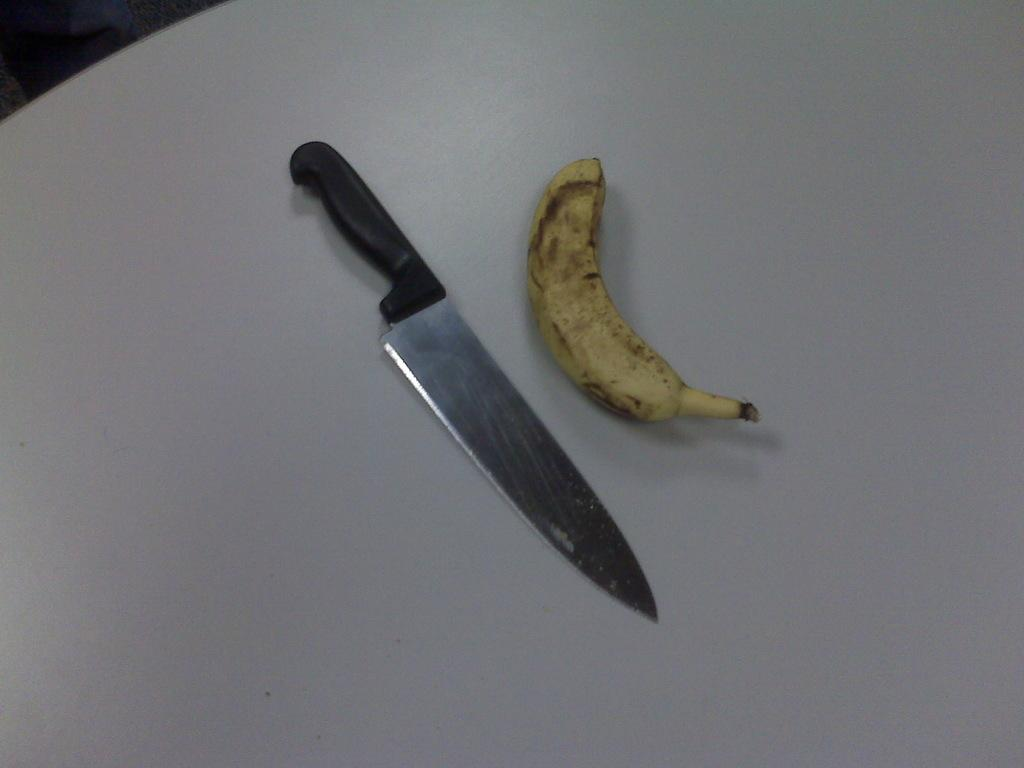knife: (288, 139, 660, 624)
